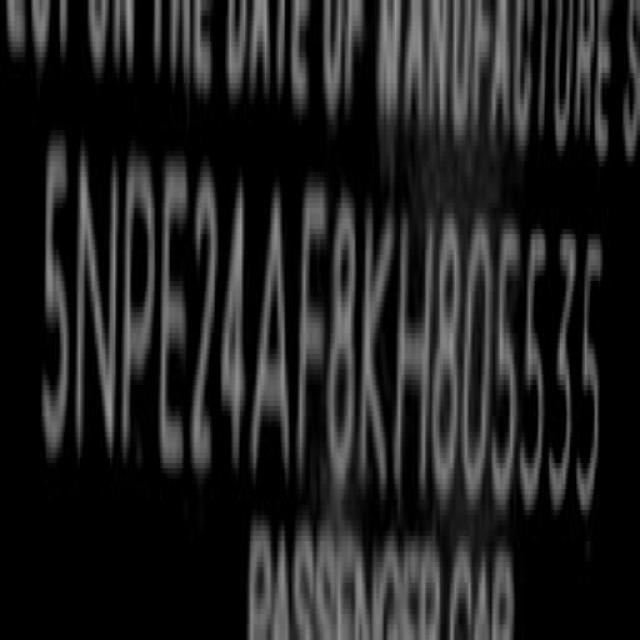0: (459, 216, 494, 509)
2: (194, 160, 216, 472)
3: (547, 223, 576, 507)
4: (218, 162, 248, 472)
5: (42, 141, 70, 470), (518, 230, 546, 514), (492, 224, 519, 516), (577, 233, 604, 513)
8: (429, 216, 462, 499), (328, 200, 356, 496)
A: (248, 175, 295, 486)
E: (160, 148, 189, 478)
F: (296, 173, 330, 484)
H: (394, 216, 434, 491)
K: (358, 198, 394, 490)
N: (73, 153, 120, 464)
P: (123, 156, 157, 461)
